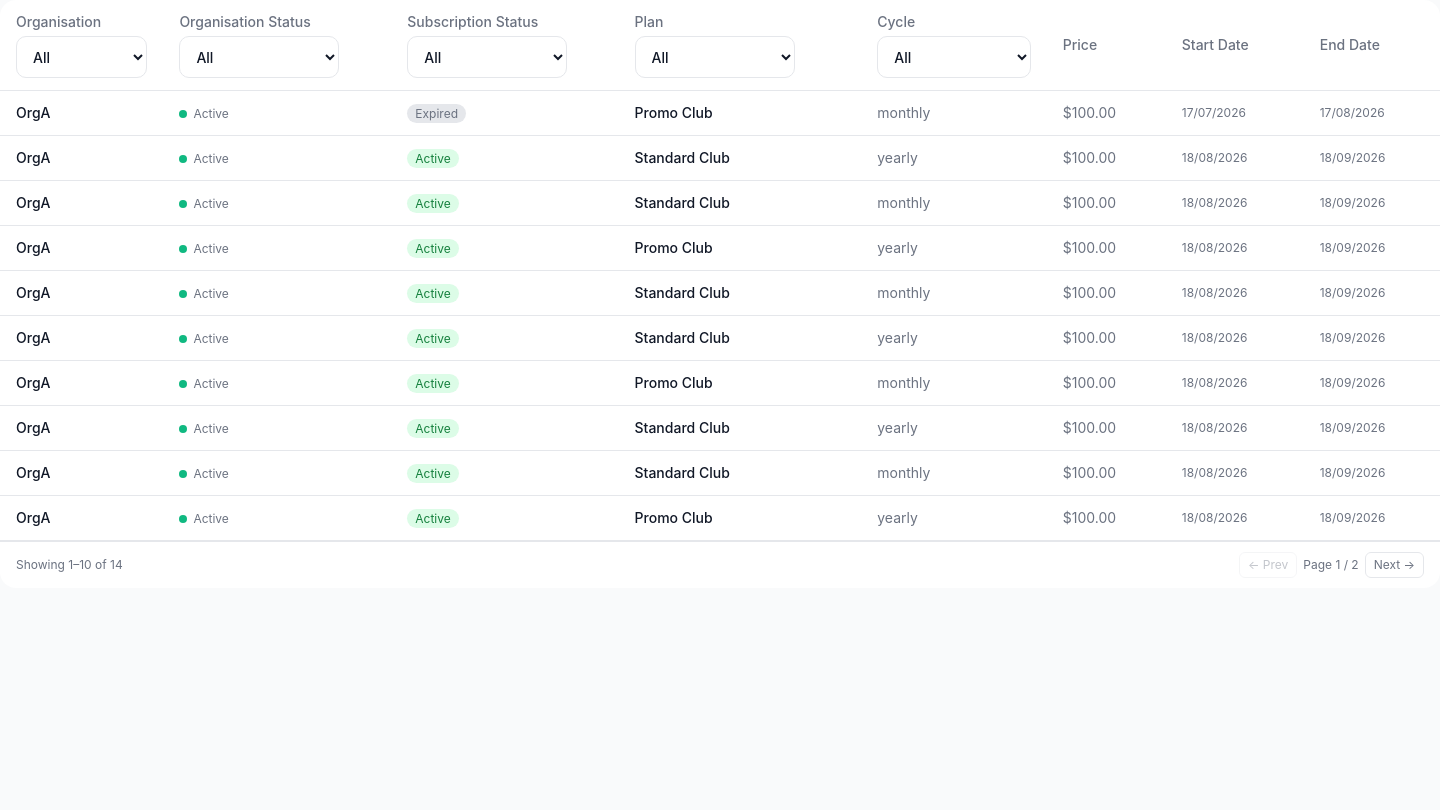
Scenario: View Assignments — column filters & pagination › paginates at 10 rows per page and navigates both directions
This screenshot has width=1440, height=810.
expect the text "Showing 1–10 of 14" is shown: met, box [16,557,123,573]
Step 1. Click the button with aria-label "Next page" → (1394, 565), box [1365,552,1424,578]
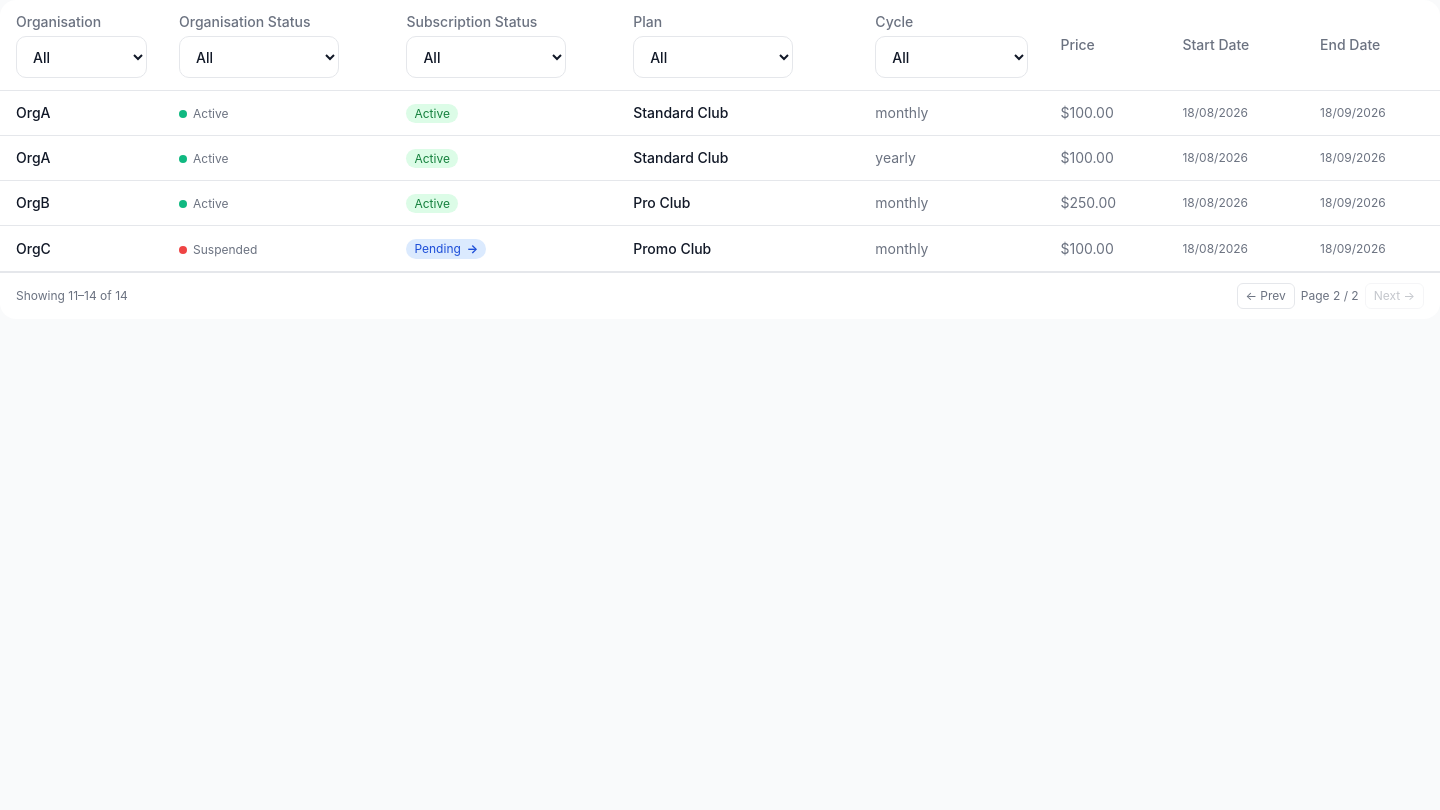
expect the text "Showing 11–14 of 14" is shown: met, box [16,288,128,304]
expect the text "Page 2 / 2" is shown: met, box [1301,288,1359,304]
expect the button with aria-label "Next page" is disabled: met, box [1365,283,1424,309]
Step 2. Click the button with aria-label "Previous page" → (1266, 296), box [1236,283,1295,309]
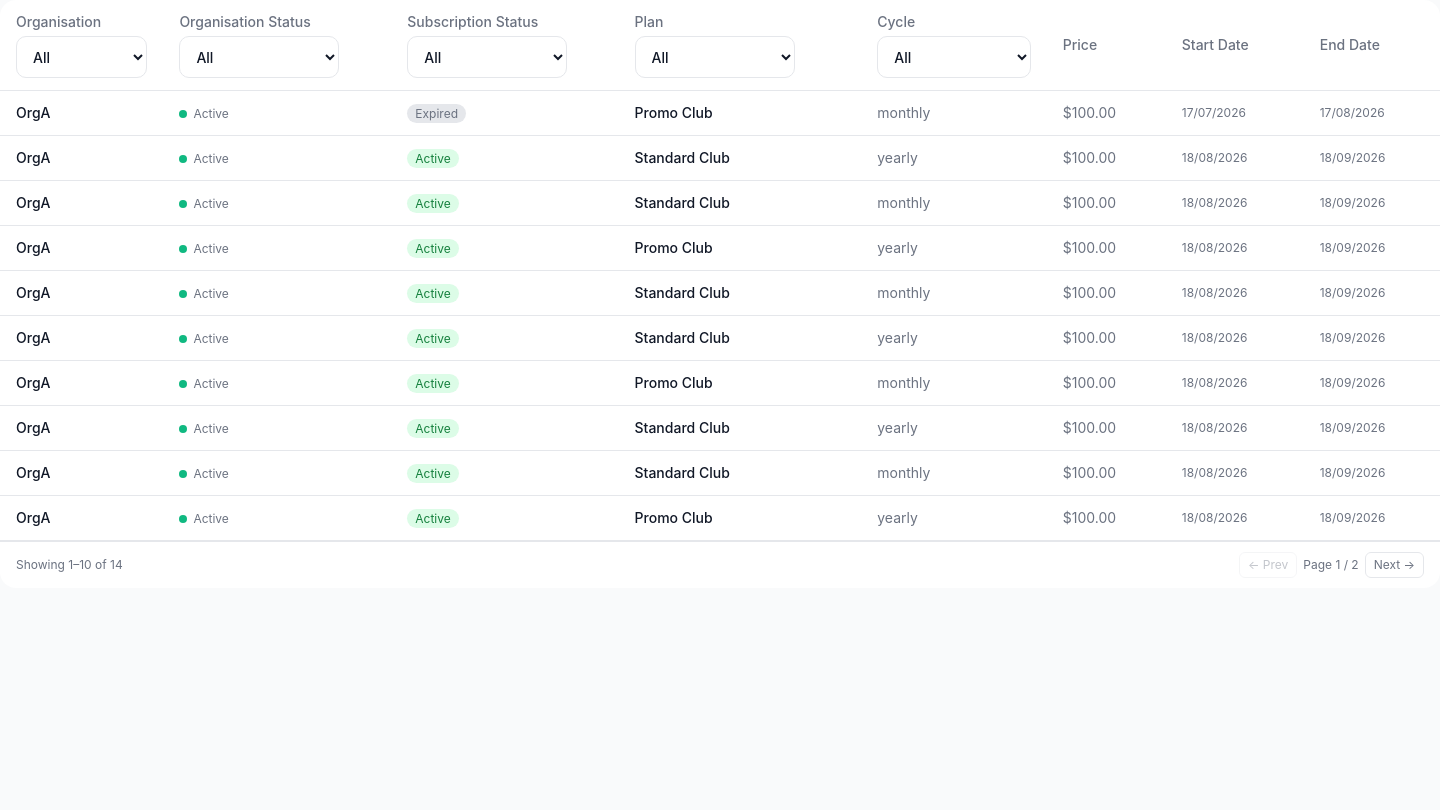
expect the text "Page 1 / 2" is shown: met, box [1303,557,1359,573]
